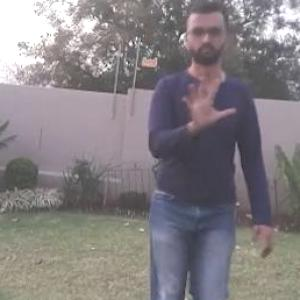follow_hand: (176, 70, 240, 129)
